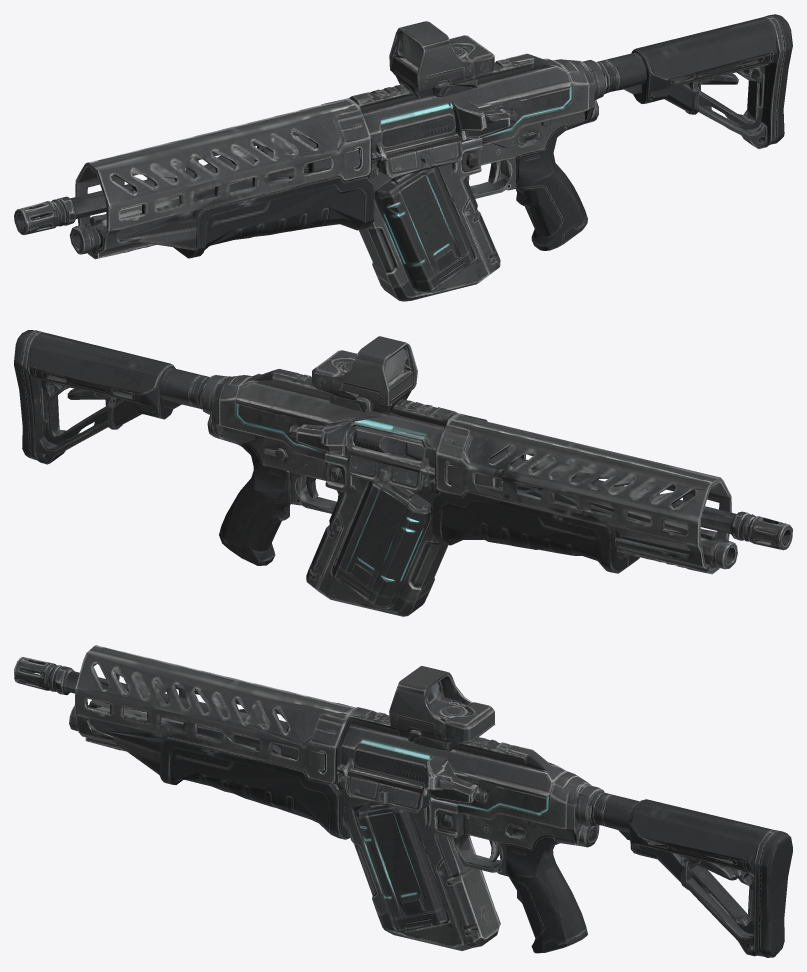
The model's file is pulse_rifle.glb.
The picture shows the model from 3 angles, top to bottom: view 1: azimuth 30°, elevation 25°; view 2: azimuth 150°, elevation 25°; view 3: azimuth 330°, elevation 25°; orthographic projection.
Visible parts, largest first — view 1: Mesh_0; view 2: Mesh_0; view 3: Mesh_0.
Part boxes in pixels (<box>): Mesh_0: <box>14,14,792,301</box>; Mesh_0: <box>14,330,792,616</box>; Mesh_0: <box>14,645,792,957</box>.
Bounding box in the file's own units: 1.9 × 0.6151 × 0.2403.
1 material, 1 textured.
